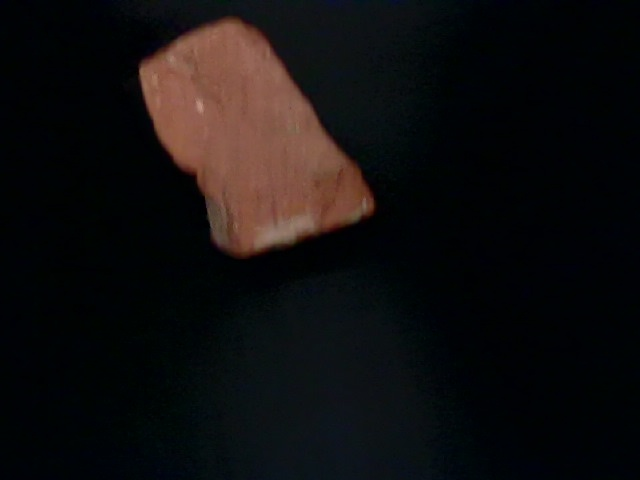KHSLJ: (138, 1, 611, 291)
